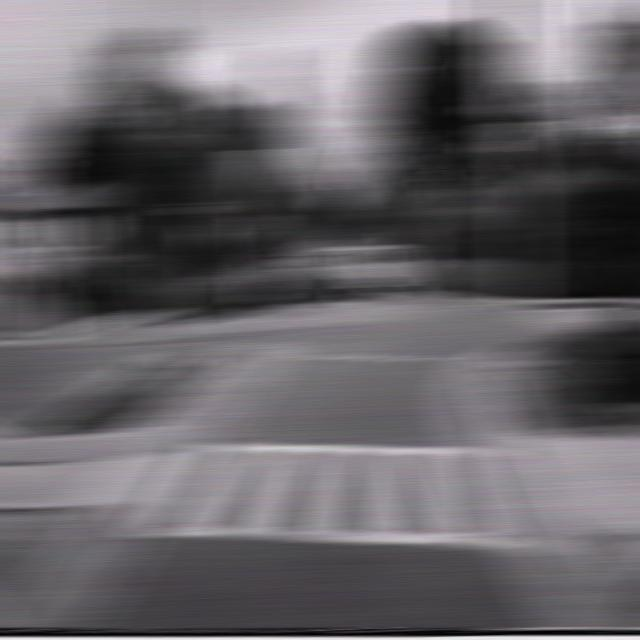yield: (489, 120, 546, 177), (234, 147, 284, 194)
